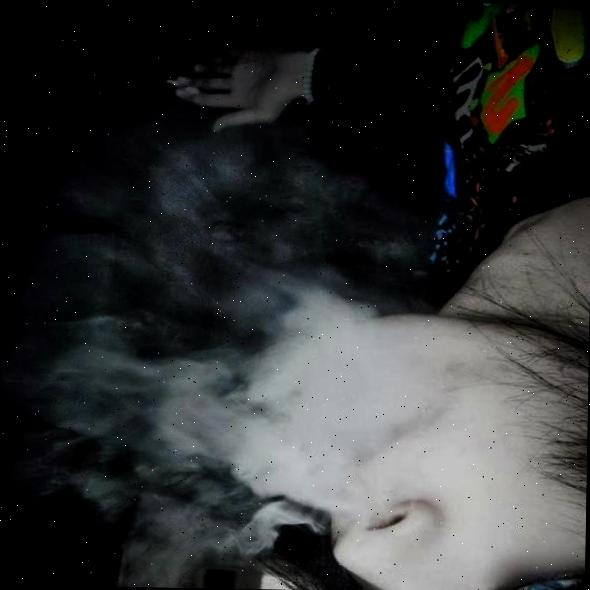smoke: (48, 140, 425, 590)
